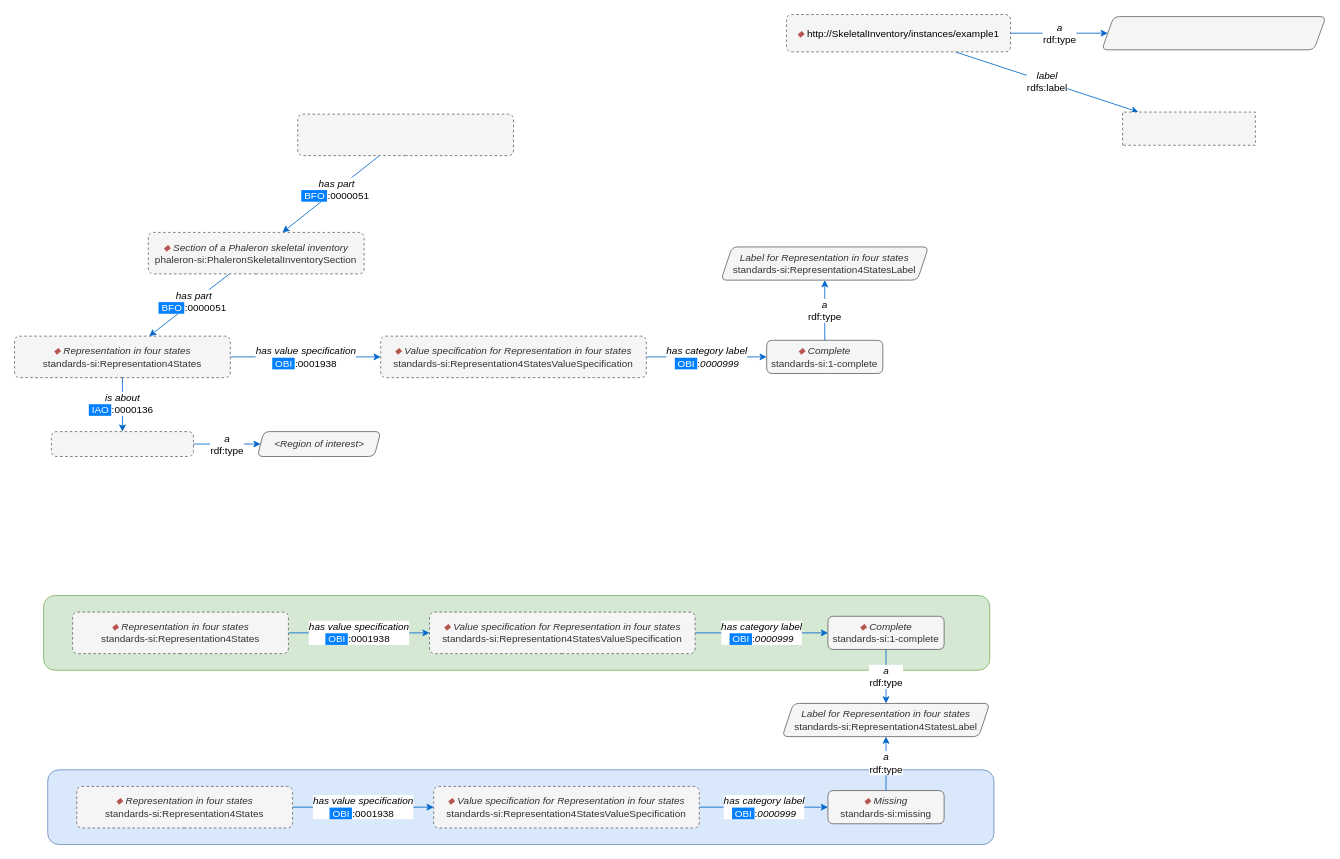
This 1340x859 diagram has some shape labels left out. The centre of each missing label's shape, as x and y in pixels:
Inventory for adult skeletons phaleron-si:InventoryForAdultSkeletons: [1213,33]
⬥ <Region of interest of Specimen>: [122,443]
⬥ Example Inventory 1: [1188,128]
⬥ Inventory for adult skeletons phaleron-si:InventoryForAdultSkeletons: [405,134]
